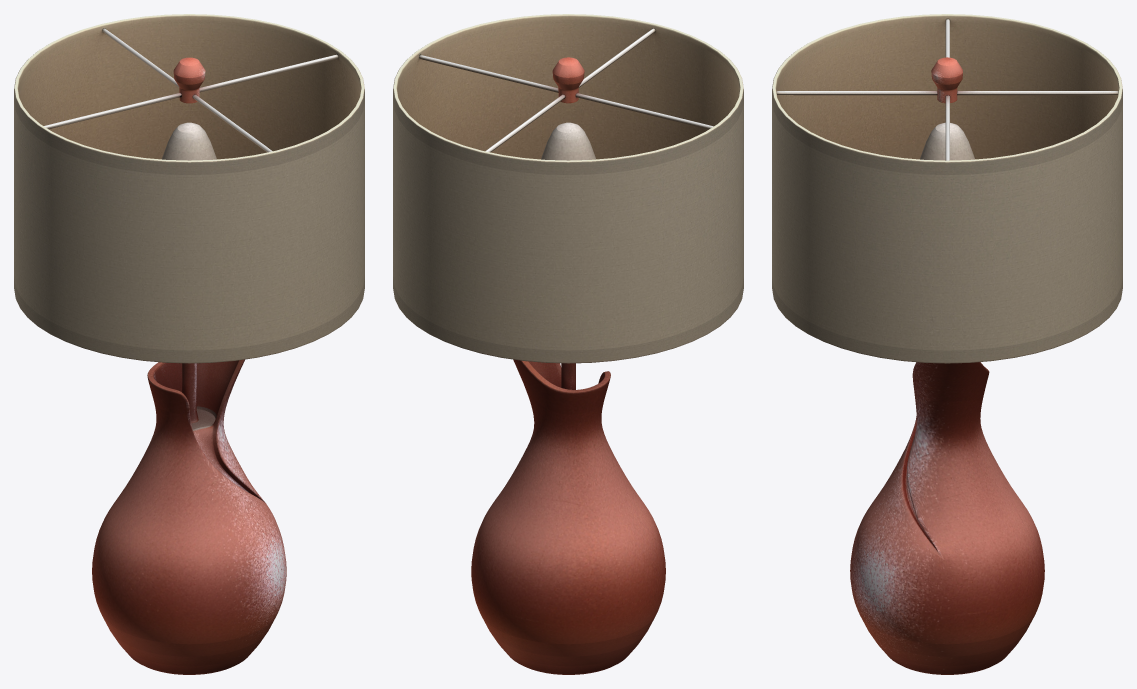
The model's file is Lamp.obj.
3 views of the same model, side by side, from view 1: azimuth 30°, elevation 25°; view 2: azimuth 150°, elevation 25°; view 3: azimuth 270°, elevation 25° (orthographic).
Parts seen in each view (by area): view 1: Lamp; view 2: Lamp; view 3: Lamp.
Part boxes in pixels (box(x1,y1,x2,y2)): Lamp: box(14, 14, 364, 674); Lamp: box(393, 14, 743, 674); Lamp: box(772, 14, 1122, 674).
Bounding box in the file's own units: 1.32 × 2.45 × 1.32.
Materials: 2 (2 with a texture image).
